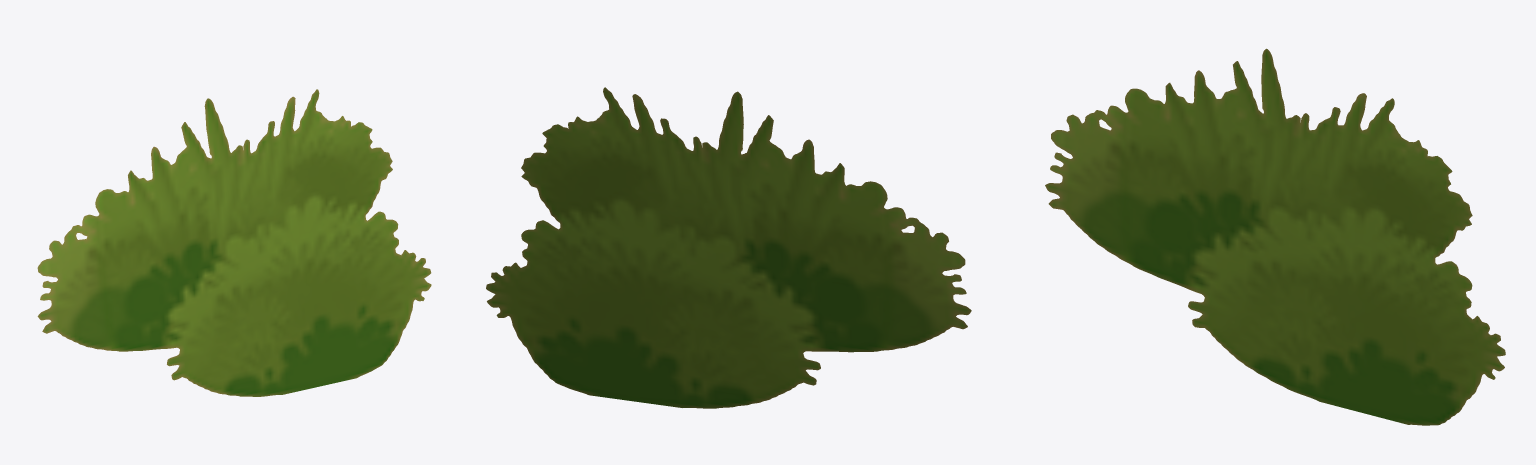
The model's file is Chapter1Scene1Model24.FBX.
3 renders of one model, left to right at view 1: azimuth 30°, elevation 25°; view 2: azimuth 150°, elevation 25°; view 3: azimuth 330°, elevation 25°, orthographic. The views are drawn at different scales.
Parts seen in each view (by area): view 1: Chapter1Scene1Model24; view 2: Chapter1Scene1Model24; view 3: Chapter1Scene1Model24.
Boxes of the visible parts, x1,y1,x2,y2 form: Chapter1Scene1Model24: (37,89,431,396); Chapter1Scene1Model24: (486,87,971,408); Chapter1Scene1Model24: (1045,48,1505,425).
Size of the model in its own units: 66.79 by 9.79 by 49.5.
